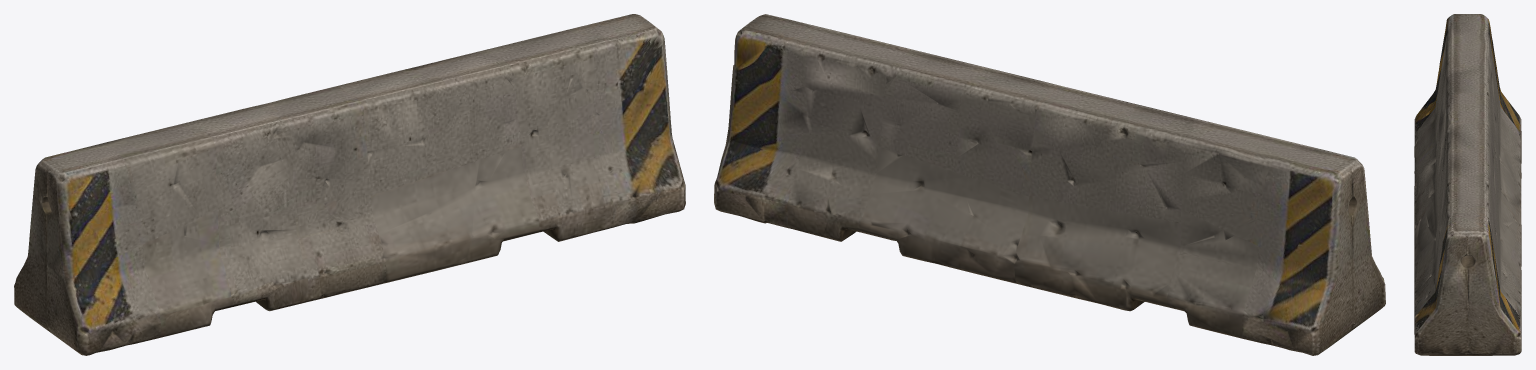
File: veh-j-barrier.glb
3 views of the same model, side by side, from view 1: azimuth 30°, elevation 25°; view 2: azimuth 150°, elevation 25°; view 3: azimuth 270°, elevation 25° (orthographic). The views are drawn at different scales.
Parts seen in each view (by area): view 1: tripo_node_ced34f7c-1709-46a4-8bd5-b4ae04f32270; view 2: tripo_node_ced34f7c-1709-46a4-8bd5-b4ae04f32270; view 3: tripo_node_ced34f7c-1709-46a4-8bd5-b4ae04f32270.
Boxes of the visible parts, x1,y1,x2,y2 form: tripo_node_ced34f7c-1709-46a4-8bd5-b4ae04f32270: [14, 14, 685, 355]; tripo_node_ced34f7c-1709-46a4-8bd5-b4ae04f32270: [714, 14, 1385, 355]; tripo_node_ced34f7c-1709-46a4-8bd5-b4ae04f32270: [1414, 14, 1521, 355].
Bounding box in the file's own units: 0.9791 × 0.2563 × 0.2002.
Materials: 1 (1 with a texture image).
